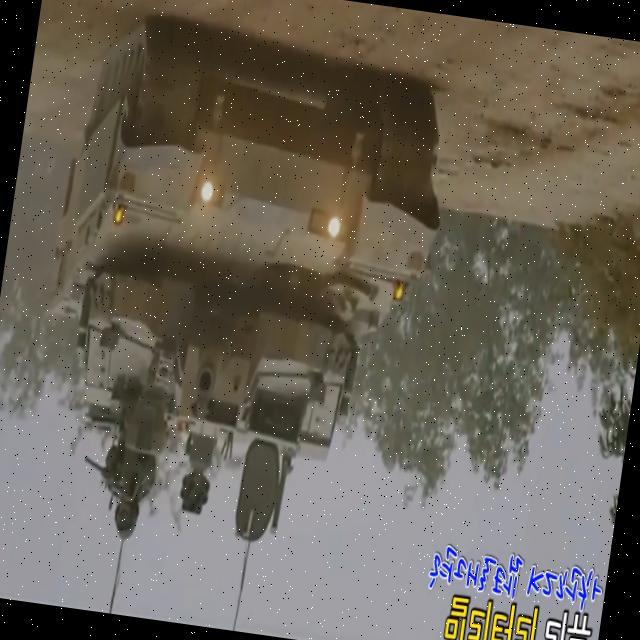korea tank: (14, 12, 462, 576)
